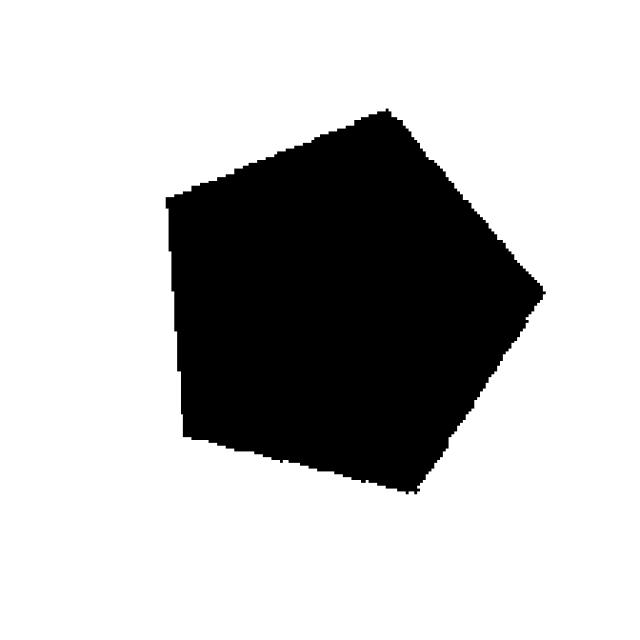Pentagon: (116, 93, 558, 516)
